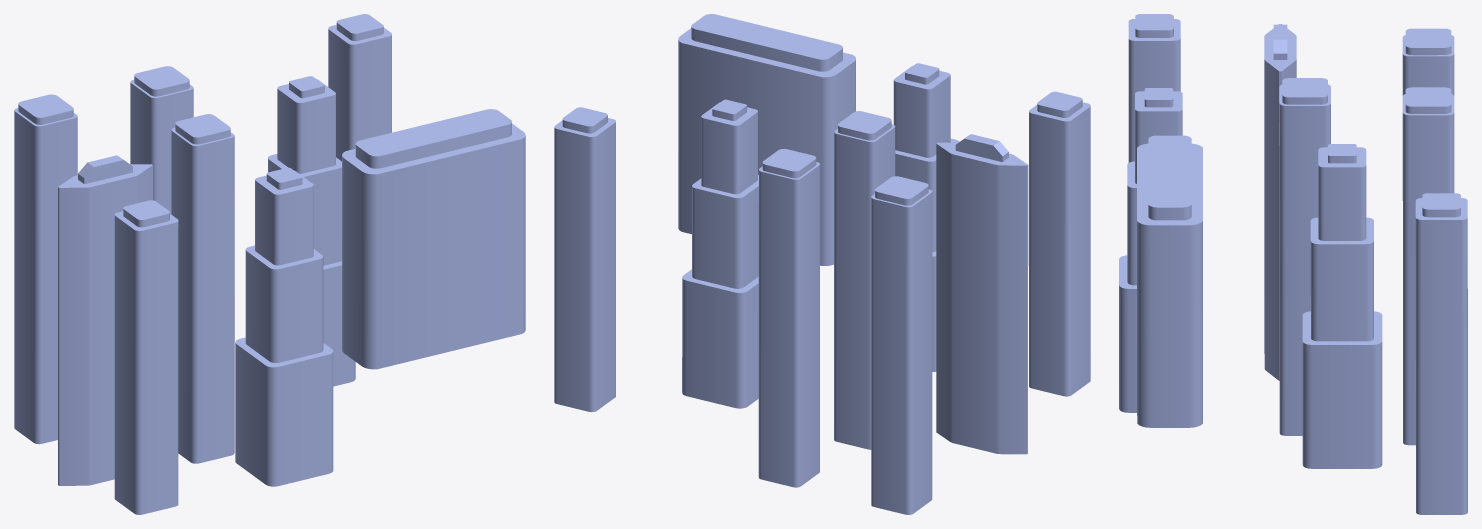
Rendered from Buildings.fbx.
The picture shows the model from 3 angles, left to right: view 1: azimuth 30°, elevation 25°; view 2: azimuth 150°, elevation 25°; view 3: azimuth 270°, elevation 25°; orthographic projection. The views are drawn at different scales.
Parts seen in each view (by area): view 1: Building6, Building2, Building4, Building1, Building3, Building4__2_, Building2__1_, Building3__1_, Building4__1_; view 2: Building1, Building6, Building2__1_, Building4__2_, Building4__1_, Building3, Building3__1_, Building4, Building2; view 3: Building2__1_, Building6, Building3__1_, Building4, Building4__1_, Building1, Building2, Building3, Building4__2_.
Part boxes in pixels (box(x1,y1,x2,y2)): Building6: box(342, 109, 525, 369); Building2: box(235, 167, 333, 486); Building4: box(171, 114, 234, 463); Building1: box(58, 155, 152, 485); Building3: box(114, 200, 178, 514); Building4__2_: box(14, 94, 77, 444); Building2__1_: box(268, 76, 355, 386); Building3__1_: box(328, 14, 391, 161); Building4__1_: box(130, 66, 193, 213); Building1: box(936, 134, 1028, 454); Building6: box(678, 14, 855, 265); Building2__1_: box(682, 99, 758, 408); Building4__2_: box(871, 176, 932, 514); Building4__1_: box(758, 148, 819, 487); Building3: box(1029, 91, 1090, 396); Building3__1_: box(554, 107, 615, 412); Building4: box(834, 111, 895, 449); Building2: box(893, 63, 959, 371); Building2__1_: box(1302, 144, 1382, 468); Building6: box(1137, 135, 1202, 427); Building3__1_: box(1415, 193, 1467, 514); Building4: box(1279, 78, 1330, 435); Building4__1_: box(1402, 87, 1454, 445); Building1: box(1264, 24, 1296, 380); Building2: box(1119, 88, 1182, 412); Building3: box(1128, 14, 1180, 162); Building4__2_: box(1402, 28, 1454, 95).
Size of the model in its own units: 2187 by 1686 by 1579.
